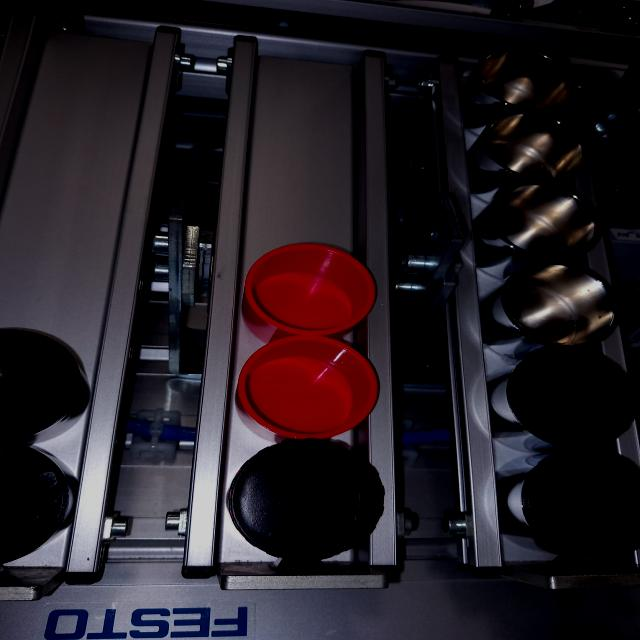NoLid: (232, 334, 385, 436), (243, 240, 381, 338), (475, 187, 606, 276), (484, 270, 616, 356), (453, 40, 582, 120), (5, 324, 98, 434), (3, 445, 76, 559), (476, 119, 588, 189)
Workpiece: (224, 446, 386, 562), (491, 450, 640, 565), (492, 346, 640, 447)
